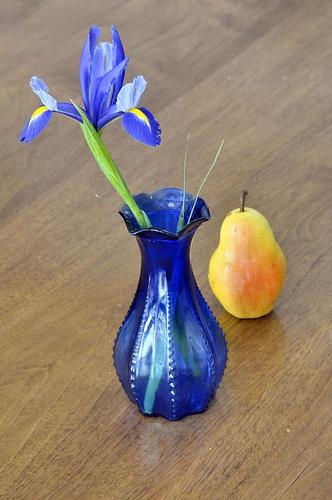pear: (207, 190, 287, 318)
